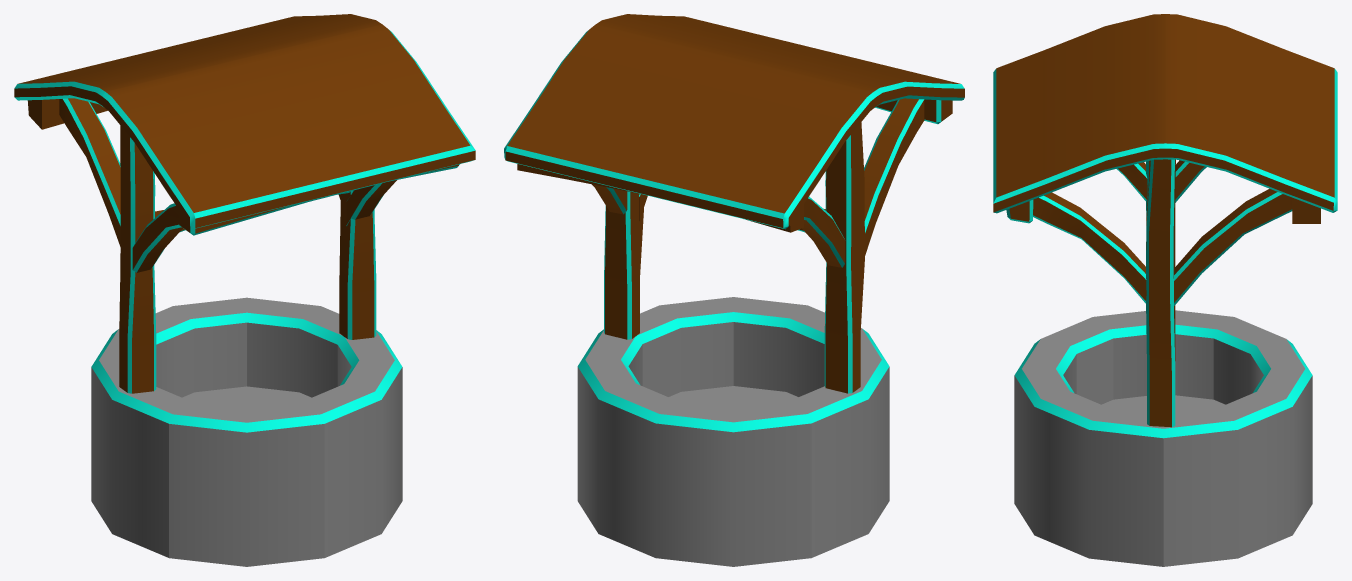
The model's file is WaterWell.fbx.
The picture shows the model from 3 angles, left to right: view 1: azimuth 30°, elevation 25°; view 2: azimuth 150°, elevation 25°; view 3: azimuth 270°, elevation 25°; orthographic projection. The views are drawn at different scales.
Parts seen in each view (by area): view 1: WaterWell; view 2: WaterWell; view 3: WaterWell.
Part boxes in pixels (bbox=[...]): WaterWell: bbox=[14, 14, 475, 566]; WaterWell: bbox=[504, 14, 964, 566]; WaterWell: bbox=[993, 14, 1337, 566].
Bounding box in the file's own units: 527 × 785 × 578.
